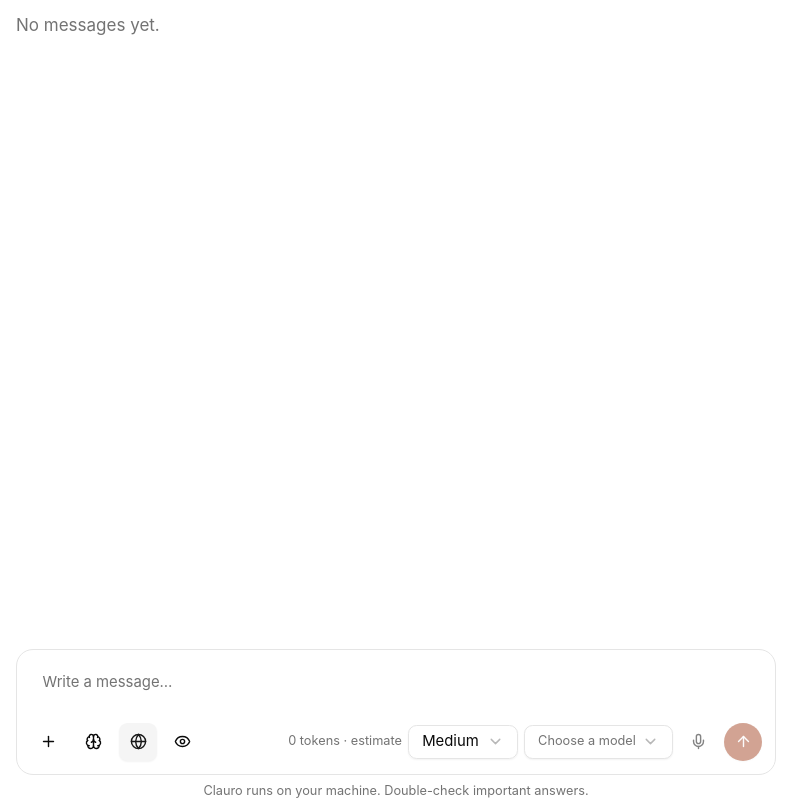
Test: ChatView › send without a model explains instead of starting
The width and height of the screenshot is (793, 800).
Type "hello" into the text box labelled "Write a message…".
click(396, 688); type("hello")  # box [30, 663, 762, 714]
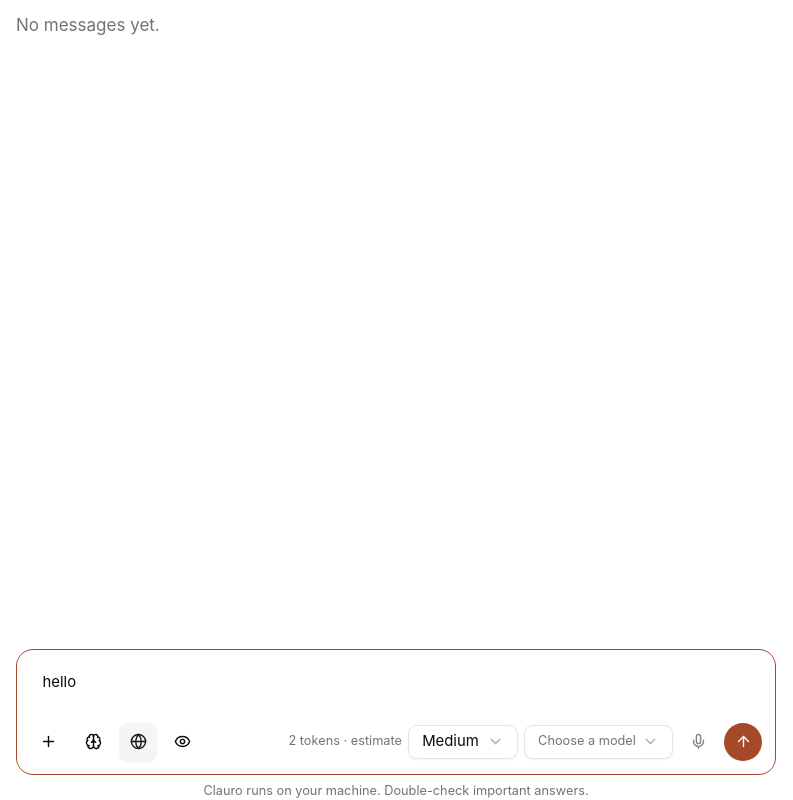
Click the button named "send".
click(743, 742)  # box [724, 722, 762, 761]
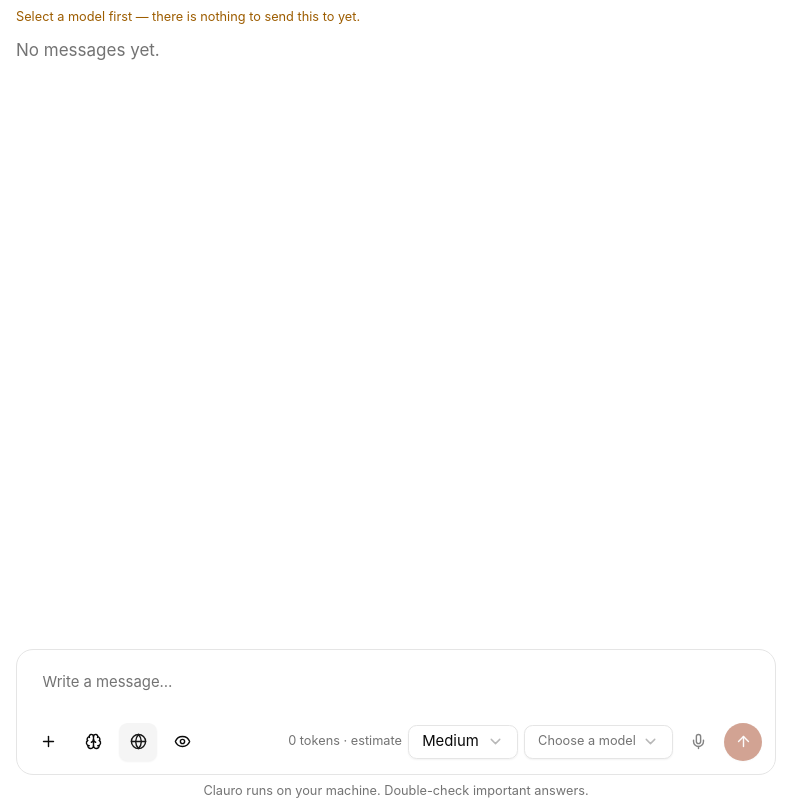
Result: the text "Select a model first — there is nothing to send this to yet." is shown at [16, 8, 360, 24]
